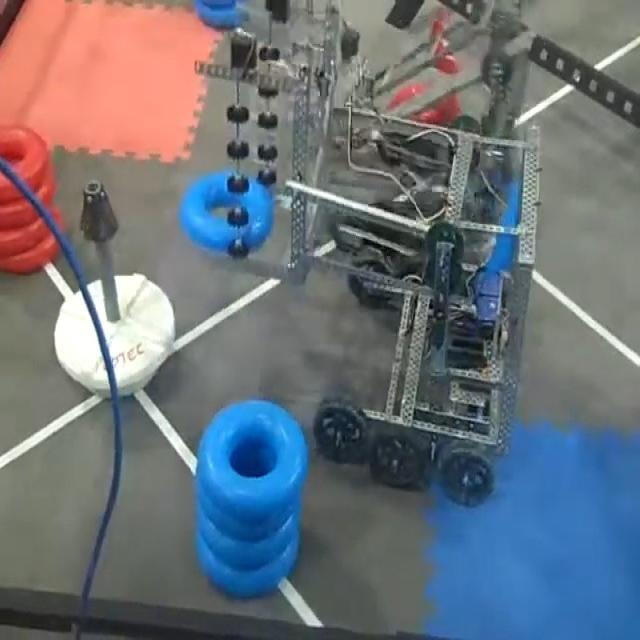Blue-Ring: (200, 396, 309, 516), (179, 171, 270, 257), (196, 530, 299, 598), (198, 479, 301, 540), (198, 508, 299, 568), (195, 1, 248, 28)
Red-Ring: (0, 127, 49, 189), (0, 233, 59, 272), (1, 218, 50, 258), (0, 198, 38, 229), (38, 168, 55, 205), (0, 173, 21, 201)
